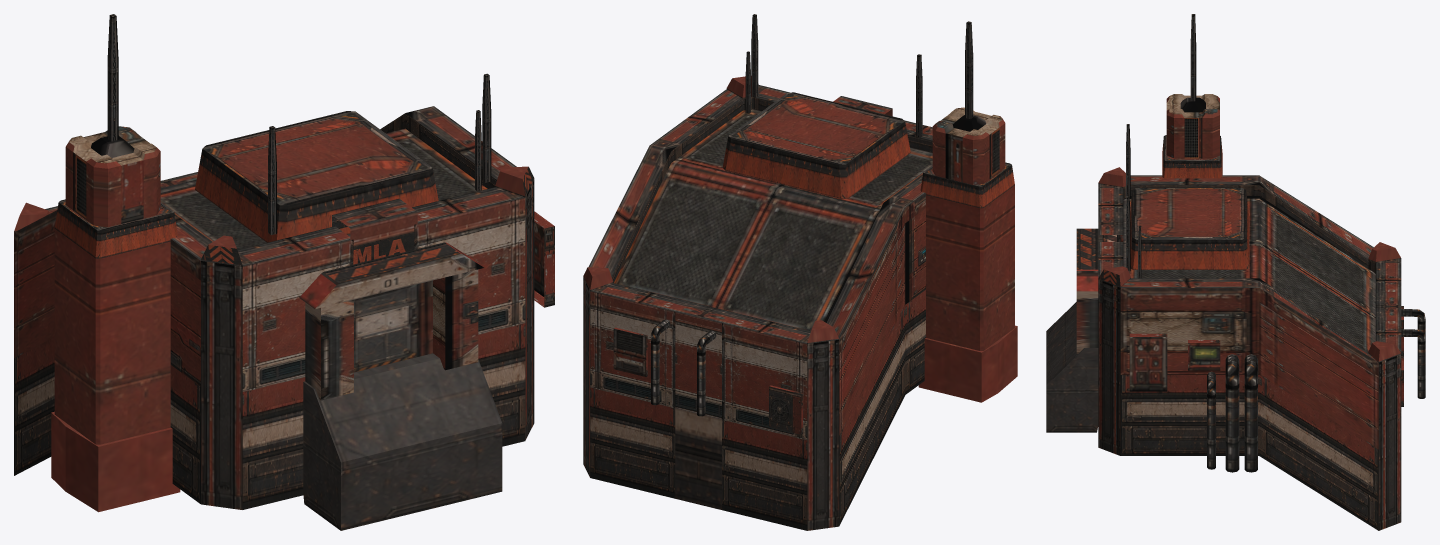
The picture shows the model from 3 angles, left to right: view 1: azimuth 30°, elevation 25°; view 2: azimuth 150°, elevation 25°; view 3: azimuth 270°, elevation 25°; orthographic projection. The views are drawn at different scales.
Parts seen in each view (by area): view 1: cc; view 2: cc; view 3: cc.
Boxes of the visible parts, left/top/right/bottom form: cc: left=14, top=14, right=554, bottom=530; cc: left=583, top=14, right=1017, bottom=530; cc: left=1046, top=14, right=1425, bottom=530.
Size of the model in its own units: 29.92 by 31.06 by 35.41.
